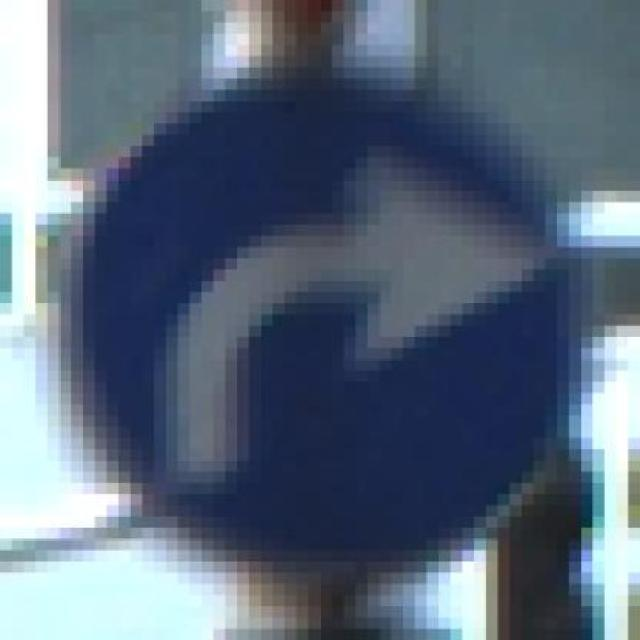Turn right ahead: (58, 44, 604, 596)
